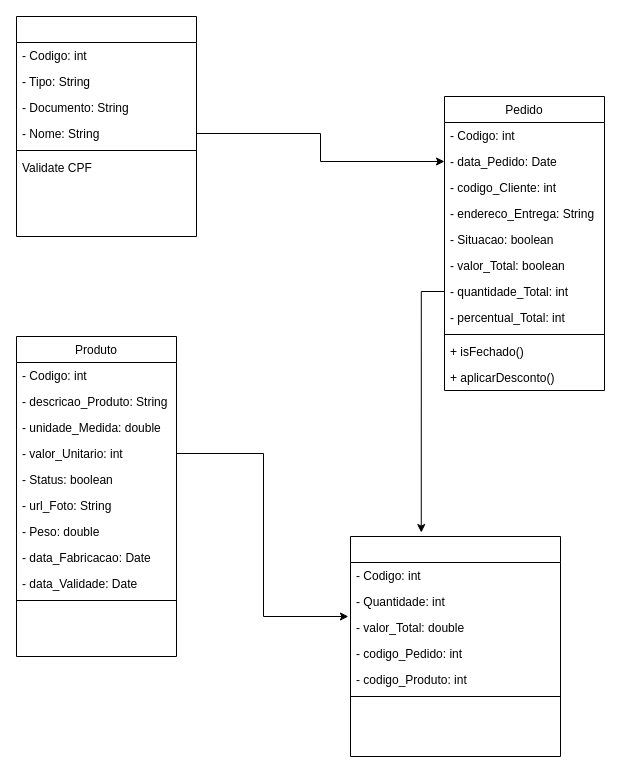
The diagram is 621 pixels wide and 773 high, and some of its shapes have lost their labels. The box of each missing label's shape, as (x1, y1, x2, y2) in pixels:
Cliente: (16, 16, 196, 236)
item_Pedido: (350, 536, 560, 756)
